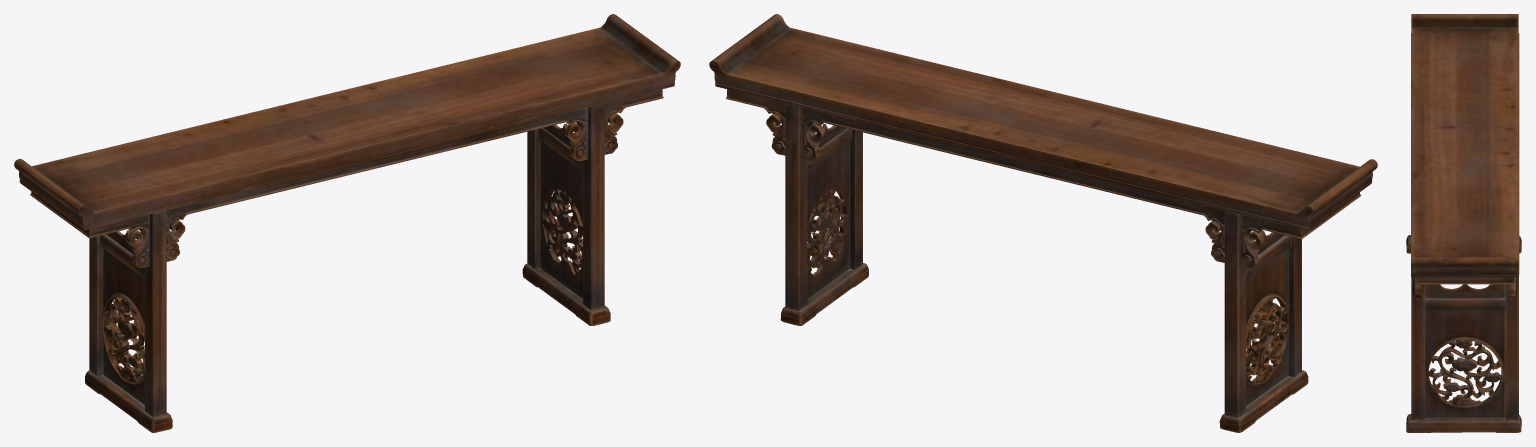
The picture shows the model from 3 angles, left to right: view 1: azimuth 30°, elevation 25°; view 2: azimuth 150°, elevation 25°; view 3: azimuth 270°, elevation 25°; orthographic projection. The views are drawn at different scales.
Visible parts, largest first — view 1: chinese_console_table; view 2: chinese_console_table; view 3: chinese_console_table.
Part boxes in pixels (x1,y1,x2,y2): chinese_console_table: (14,14,680,432); chinese_console_table: (709,14,1377,432); chinese_console_table: (1406,14,1521,432).
Bounding box in the file's own units: 1.72 × 0.6607 × 0.3388.
Materials: 1 (1 with a texture image).
